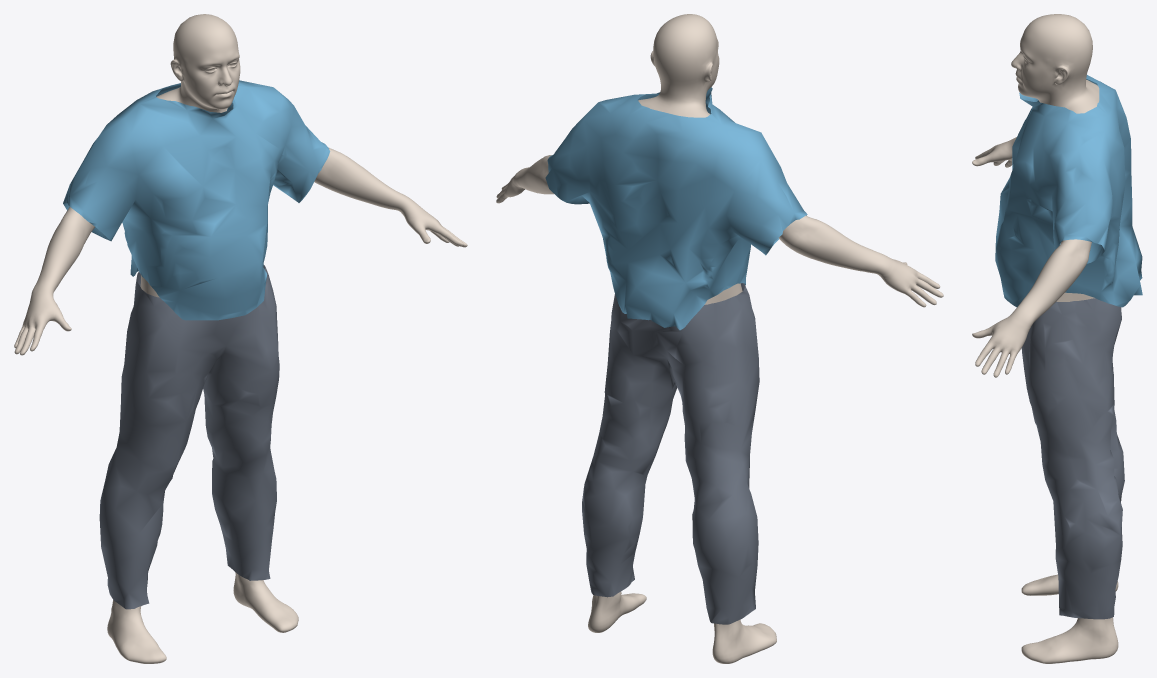
The picture shows the model from 3 angles, left to right: view 1: azimuth 30°, elevation 25°; view 2: azimuth 150°, elevation 25°; view 3: azimuth 270°, elevation 25°; orthographic projection.
Parts seen in each view (by area): view 1: shirt, pants, body; view 2: pants, shirt, body; view 3: pants, shirt, body.
Boxes of the visible parts, left/top/right/bottom form: shirt: left=63, top=80, right=330, bottom=320; pants: left=99, top=265, right=279, bottom=609; body: left=14, top=14, right=467, bottom=663; pants: left=582, top=283, right=759, bottom=624; shirt: left=545, top=87, right=807, bottom=330; body: left=496, top=14, right=943, bottom=663; pants: left=1021, top=298, right=1124, bottom=619; shirt: left=995, top=75, right=1142, bottom=307; body: left=972, top=14, right=1118, bottom=663.
Size of the model in its own units: 1.34 by 1.78 by 0.4523.
